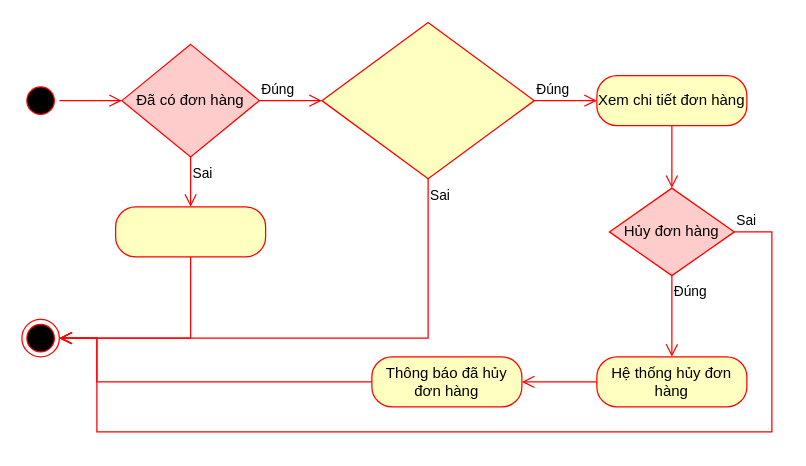
The diagram is 806 pixels wide and 466 high, and some of its shapes have lost their labels. The centre of each missing label's shape, as x and y in pixels:
Thông báo chưa có đơn hàng: the point at 190,231
Đã có đơn hàng đang xử lý: the point at 427,100
